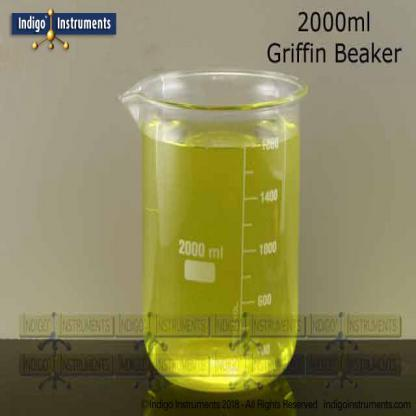Beaker: (120, 41, 316, 393)
